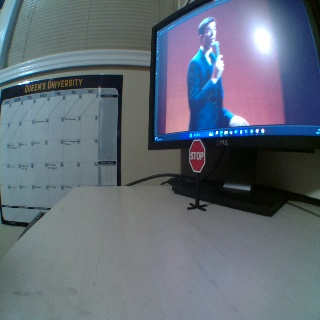sign_stop: (188, 139, 205, 171)
